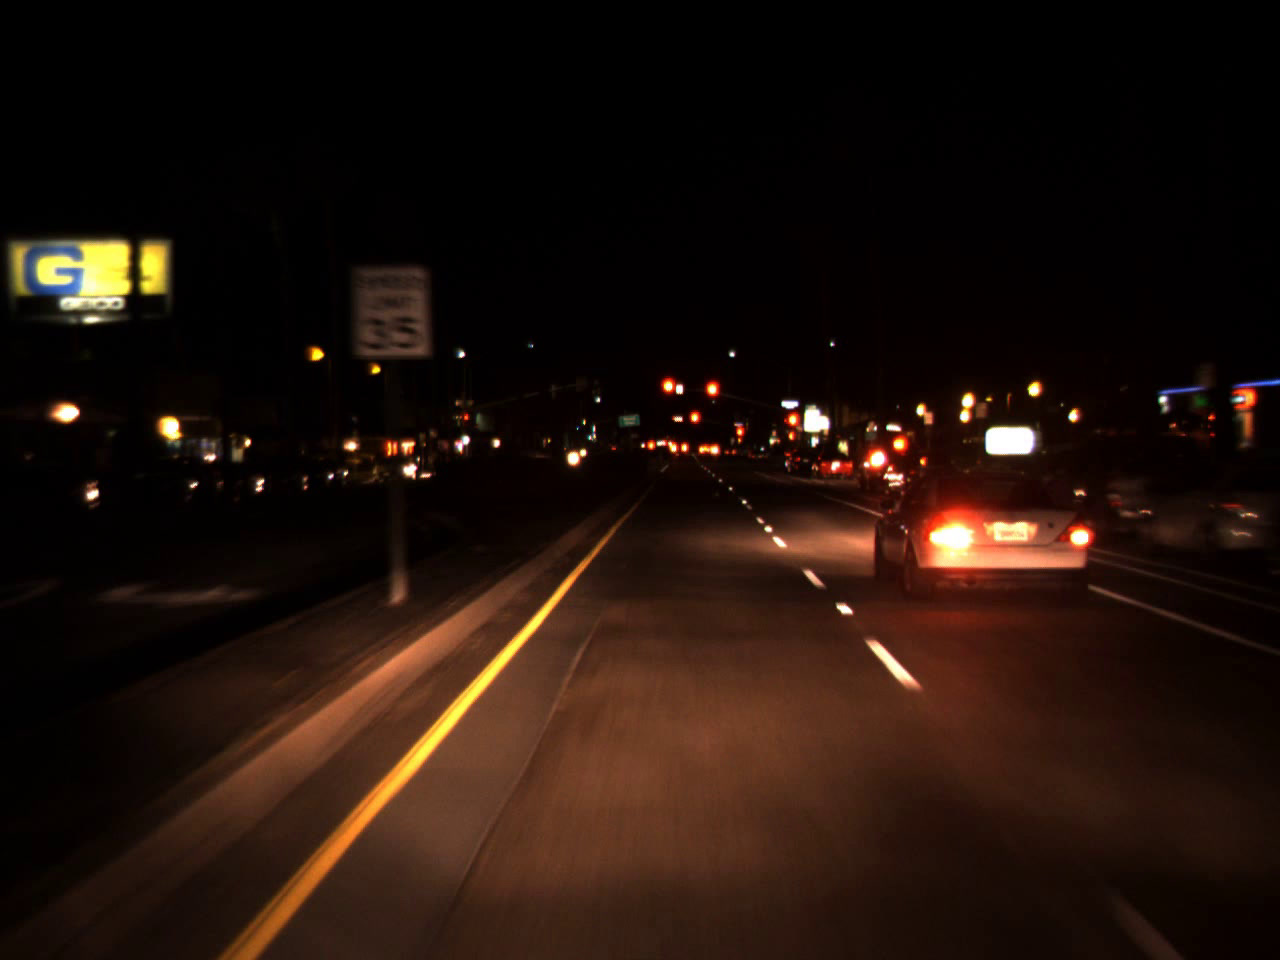stop: (658, 374, 679, 411), (703, 378, 722, 415), (785, 409, 803, 444), (688, 409, 701, 436), (735, 423, 745, 450)
